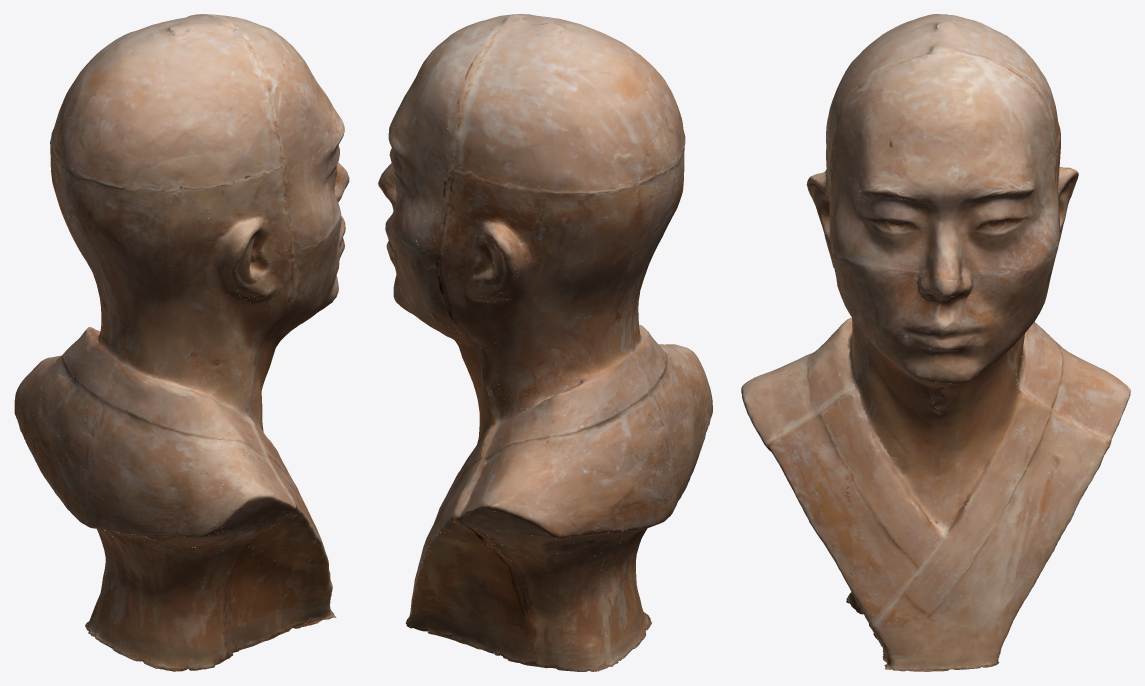
File: jaso.glb
3 views of the same model, side by side, from view 1: azimuth 30°, elevation 25°; view 2: azimuth 150°, elevation 25°; view 3: azimuth 270°, elevation 25° (orthographic). The views are drawn at different scales.
Parts seen in each view (by area): view 1: Mesh_0_Part_0; view 2: Mesh_0_Part_0; view 3: Mesh_0_Part_0.
Part boxes in pixels (<box>): Mesh_0_Part_0: <box>14,14,349,671</box>; Mesh_0_Part_0: <box>378,14,712,671</box>; Mesh_0_Part_0: <box>741,14,1130,671</box>.
Size of the model in its own units: 2.22 by 4.48 by 2.7.
1 material, 1 textured.
